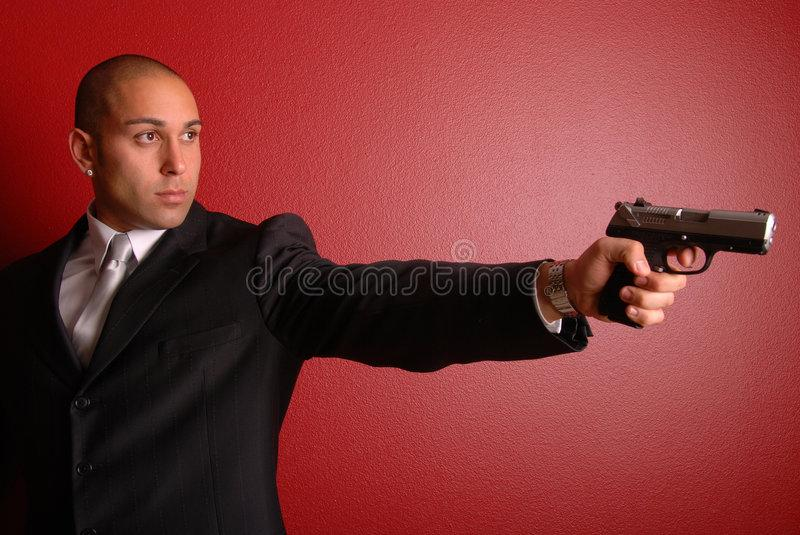criminal: (0, 50, 783, 535)
weapon: (588, 190, 783, 336)
